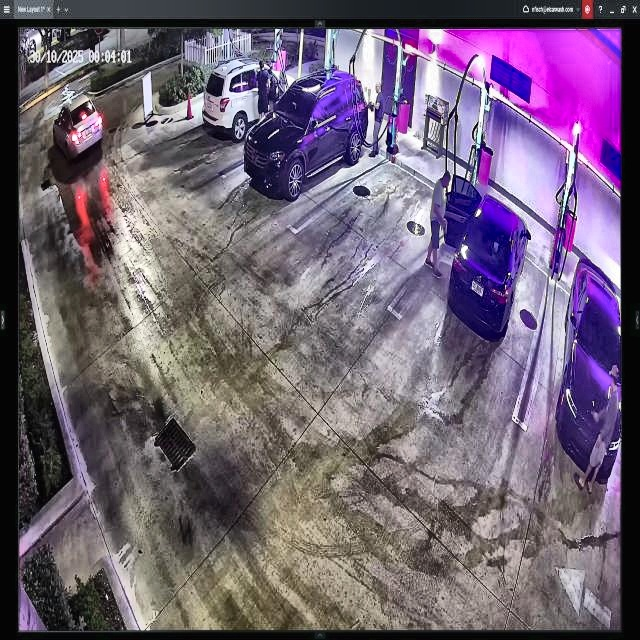Car: (243, 70, 368, 196), (444, 175, 530, 339)
